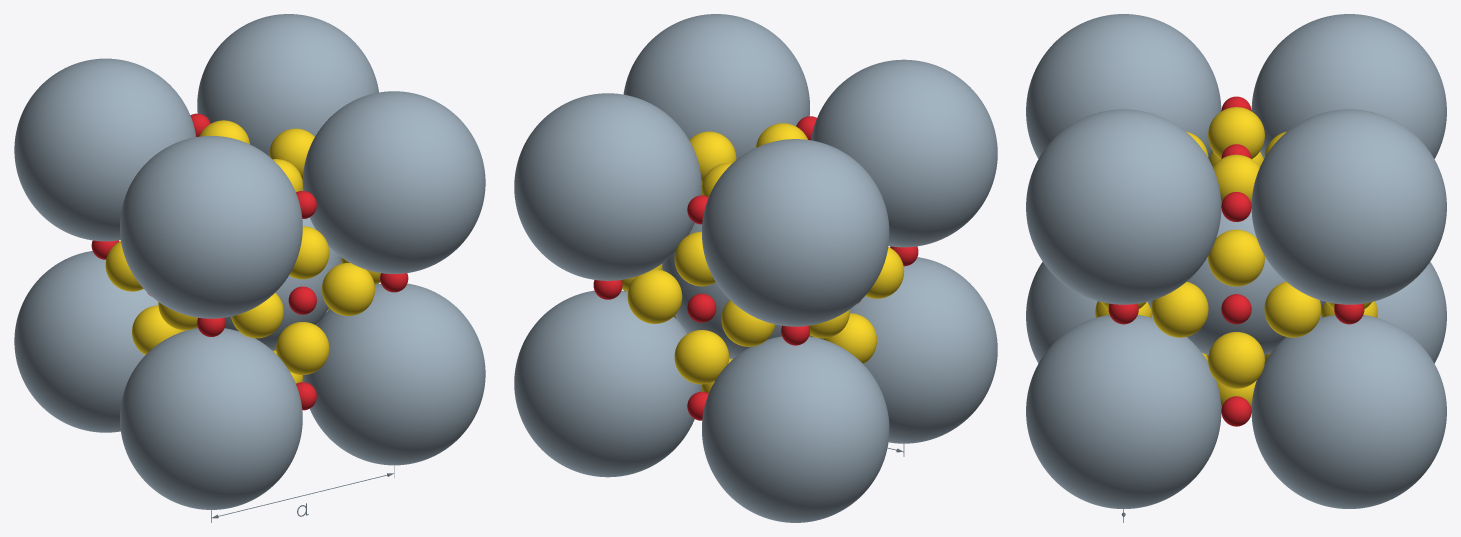
File: krz-kugelmodell.glb
3 renders of one model, left to right at view 1: azimuth 30°, elevation 25°; view 2: azimuth 150°, elevation 25°; view 3: azimuth 270°, elevation 25°, orthographic. The views are drawn at different scales.
Parts seen in each view (by area): view 1: atom_ecke_011, atom_ecke_001, atom_ecke_111, atom_ecke_101, atom_ecke_010, atom_ecke_000, atom_ecke_110, tetraeder_flaeche_21_11, tetraeder_flaeche_21_03, atom_zentrum, tetraeder_flaeche_21_01, tetraeder_flaeche_21_13 (+6 smaller); view 2: atom_ecke_010, atom_ecke_000, atom_ecke_110, atom_ecke_100, atom_ecke_011, atom_ecke_001, atom_ecke_111, tetraeder_flaeche_20_03, tetraeder_flaeche_20_11, atom_zentrum, tetraeder_flaeche_20_01, tetraeder_flaeche_20_13 (+6 smaller); view 3: atom_ecke_110, atom_ecke_111, atom_ecke_100, atom_ecke_101, atom_ecke_010, atom_ecke_011, atom_zentrum, atom_ecke_000, atom_ecke_001, tetraeder_flaeche_01_11, tetraeder_flaeche_01_13, tetraeder_flaeche_01_21 (+9 smaller).
Boxes of the visible parts, x1,y1,x2,y2 form: atom_ecke_011: (120, 136, 302, 318); atom_ecke_001: (120, 328, 302, 509); atom_ecke_111: (302, 91, 485, 273); atom_ecke_101: (303, 283, 485, 465); atom_ecke_010: (14, 58, 196, 241); atom_ecke_000: (14, 251, 187, 432); atom_ecke_110: (197, 14, 378, 155); tetraeder_flaeche_21_11: (276, 322, 329, 374); tetraeder_flaeche_21_03: (322, 263, 374, 315); atom_zentrum: (193, 188, 341, 350); tetraeder_flaeche_21_01: (231, 292, 283, 338); tetraeder_flaeche_21_13: (289, 226, 329, 279); atom_ecke_010: (702, 139, 889, 326); atom_ecke_000: (702, 336, 889, 522); atom_ecke_110: (514, 93, 701, 280); atom_ecke_100: (514, 290, 701, 477); atom_ecke_011: (811, 59, 997, 247); atom_ecke_001: (820, 257, 997, 443); atom_ecke_111: (623, 14, 809, 186); tetraeder_flaeche_20_03: (627, 269, 682, 323); tetraeder_flaeche_20_11: (674, 330, 728, 384); atom_zentrum: (662, 193, 812, 359); tetraeder_flaeche_20_01: (721, 300, 775, 346); tetraeder_flaeche_20_13: (674, 231, 715, 286); atom_ecke_110: (1251, 109, 1446, 304); atom_ecke_111: (1026, 109, 1221, 304); atom_ecke_100: (1251, 315, 1446, 508); atom_ecke_101: (1026, 315, 1221, 508); atom_ecke_010: (1251, 14, 1446, 158); atom_ecke_011: (1026, 14, 1221, 158); atom_zentrum: (1148, 209, 1324, 354); atom_ecke_000: (1264, 262, 1446, 363); atom_ecke_001: (1026, 262, 1208, 363); tetraeder_flaeche_01_11: (1208, 332, 1264, 388); tetraeder_flaeche_01_13: (1208, 229, 1264, 286); tetraeder_flaeche_01_21: (1264, 281, 1321, 337).
Bounding box in the file's own units: 1.87 × 2.06 × 1.87.
